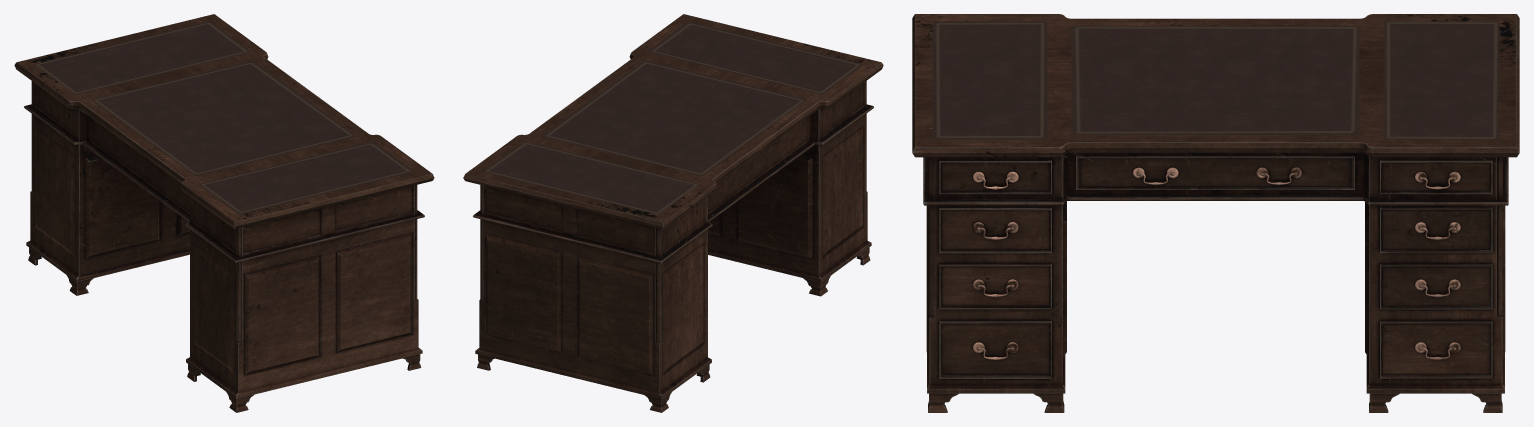
Rendered from desk.glb.
3 renders of one model, left to right at view 1: azimuth 30°, elevation 25°; view 2: azimuth 150°, elevation 25°; view 3: azimuth 270°, elevation 25°, orthographic. The views are drawn at different scales.
Parts seen in each view (by area): view 1: Cube.121, Cube.122, Cube.123, Cylinder.004; view 2: Cube.121, Cube.122, Cube.123, Cylinder.004; view 3: Cube.122, Cube.121, Cube.127, Cube.136, Cube.126, Cube.134, Cube.133, Cube.132, Cube.125, Cube.123, Cube.135, Cube.124 (+1 smaller).
Part boxes in pixels (x1,y1,x2,y2): Cube.121: [26, 82, 422, 398]; Cube.122: [14, 14, 434, 229]; Cube.123: [24, 104, 424, 262]; Cylinder.004: [31, 81, 417, 343]; Cube.121: [475, 81, 871, 399]; Cube.122: [463, 14, 883, 229]; Cube.123: [473, 104, 873, 263]; Cylinder.004: [480, 81, 866, 343]; Cube.122: [912, 14, 1519, 157]; Cube.121: [926, 152, 1505, 393]; Cube.127: [1076, 156, 1354, 189]; Cube.136: [939, 320, 1051, 378]; Cube.126: [1380, 320, 1492, 378]; Cube.134: [939, 207, 1051, 253]; Cube.133: [1380, 207, 1492, 253]; Cube.132: [1380, 264, 1492, 309]; Cube.125: [939, 264, 1051, 309]; Cube.123: [923, 157, 1508, 205]; Cube.135: [939, 160, 1051, 194]; Cube.124: [1380, 160, 1492, 194].
Bounding box in the file's own units: 2.22 × 2.08 × 4.24.
Materials: 1 (1 with a texture image).
